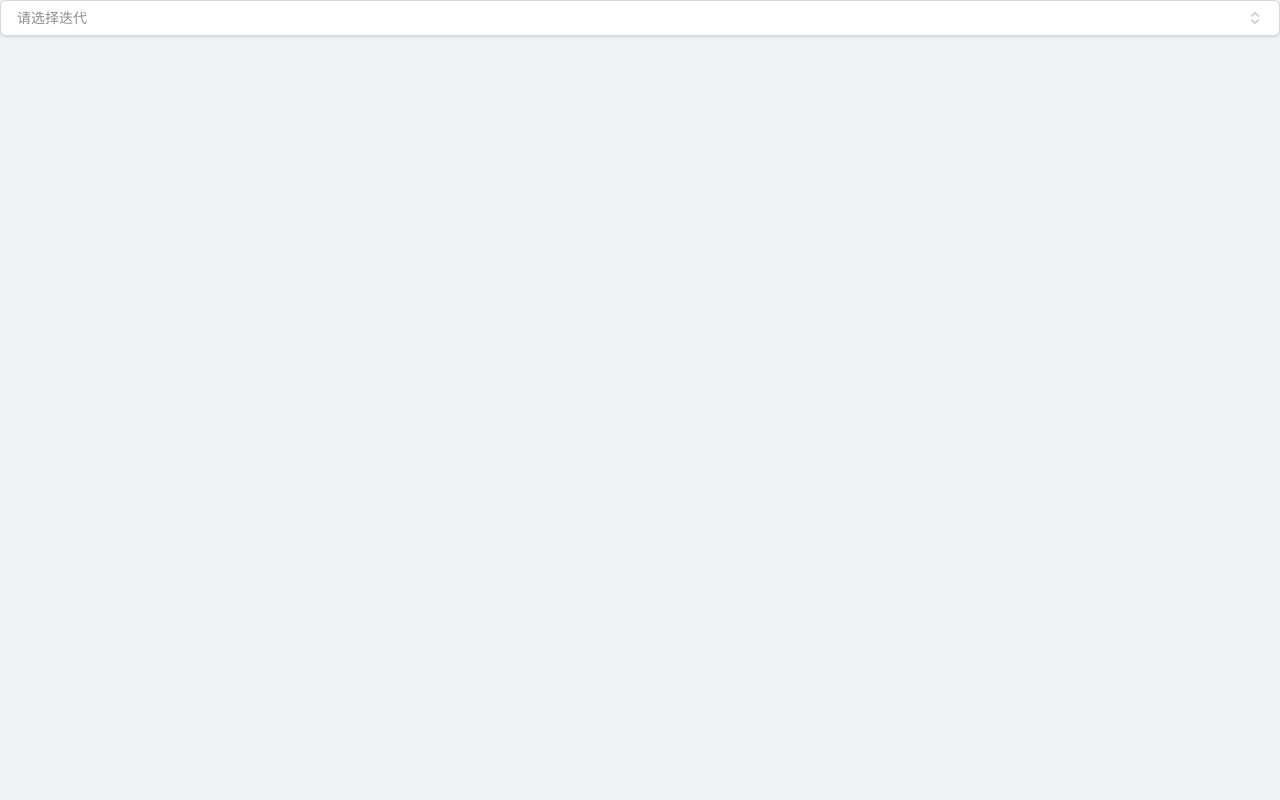
Scenario: SprintSelect › 勾选框可切换，切换后仍展示选项
Click the dropdown at (52, 18), box x1=0 y1=0 x2=1279 y2=36
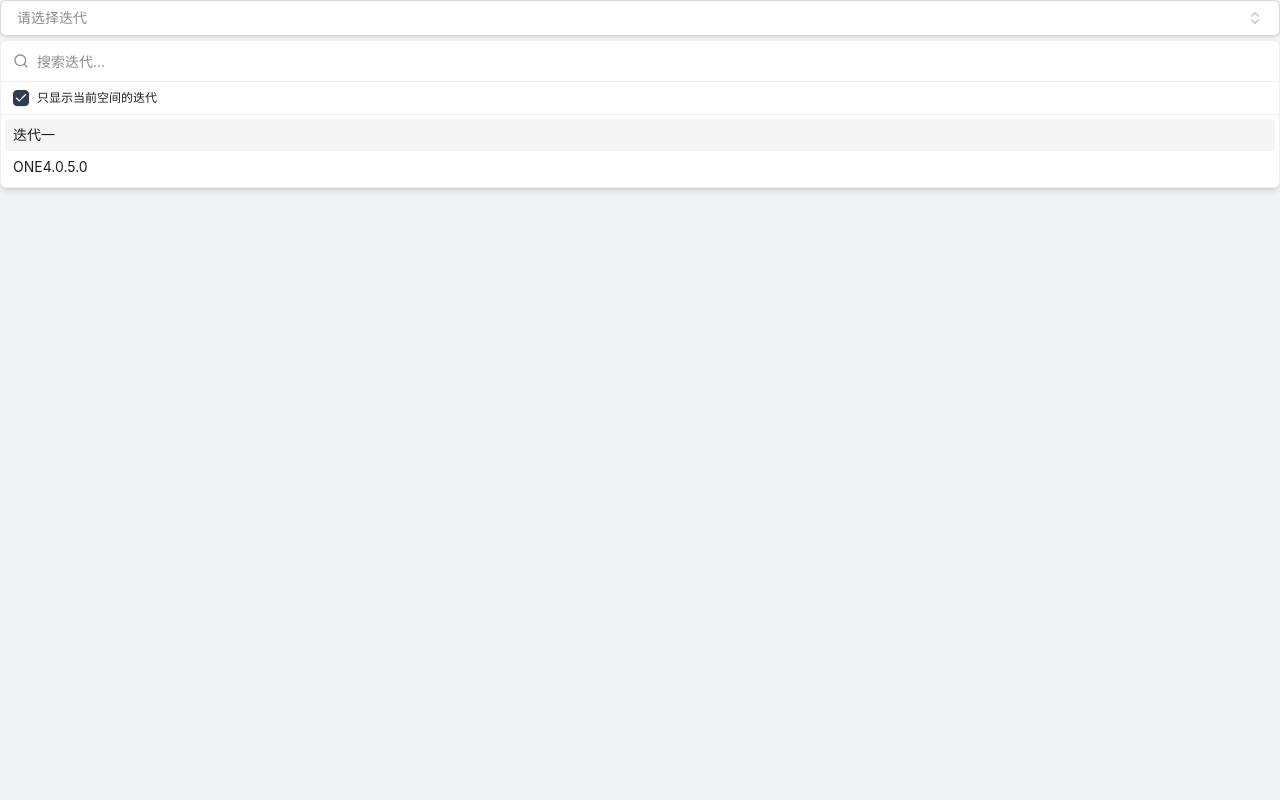
Click the checkbox at (21, 98), box x1=13 y1=90 x2=29 y2=106
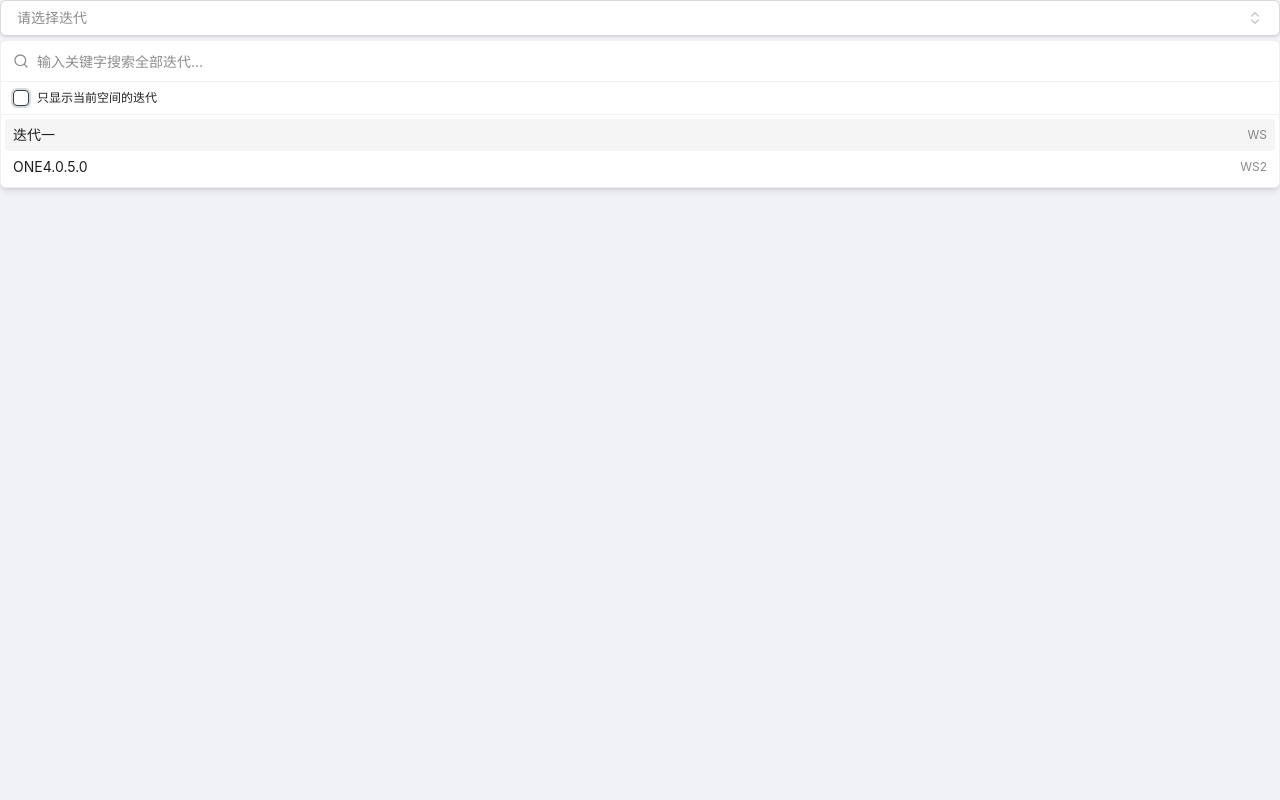
Result: the checkbox has attribute data-state="unchecked" at x1=13 y1=90 x2=29 y2=106
